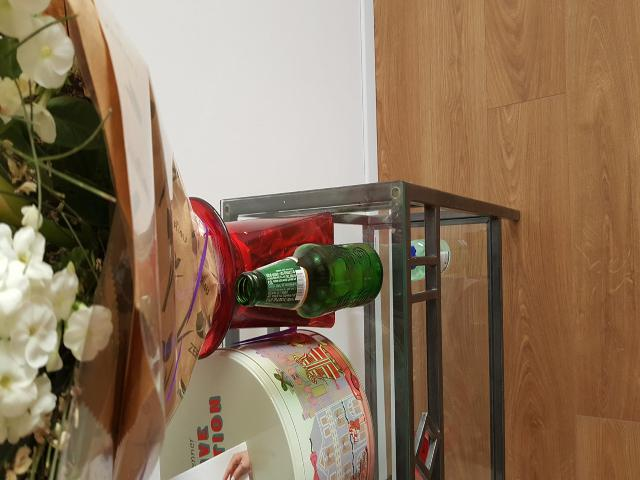beer: (236, 242, 384, 318)
